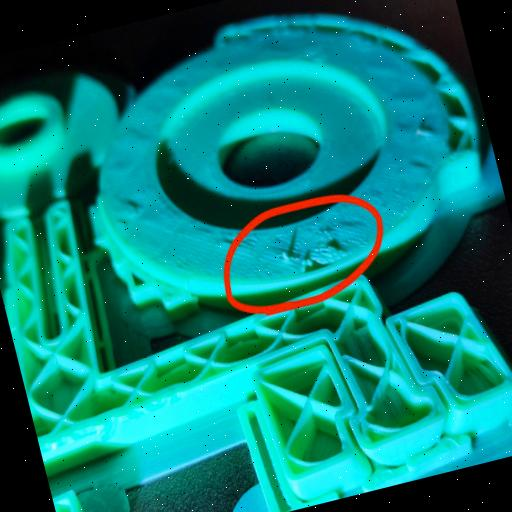blobs: (122, 190, 146, 220), (405, 153, 429, 176), (320, 233, 342, 257), (414, 122, 436, 143), (280, 247, 296, 266)
